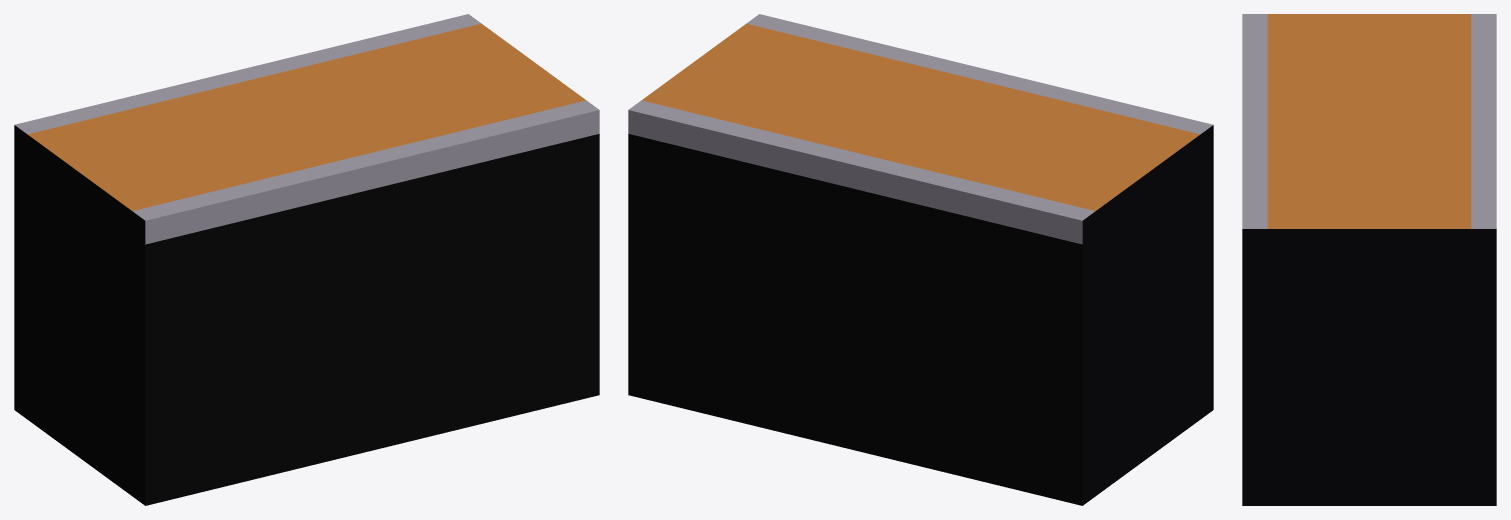
Rendered from ManPad_Half_6_TwoGrind.obj.
The picture shows the model from 3 angles, left to right: view 1: azimuth 30°, elevation 25°; view 2: azimuth 150°, elevation 25°; view 3: azimuth 270°, elevation 25°; orthographic projection. The views are drawn at different scales.
Visible parts, largest first — view 1: ManPad_Half_6_TwoGrind; view 2: ManPad_Half_6_TwoGrind; view 3: ManPad_Half_6_TwoGrind.
Boxes of the visible parts, x1=… form: ManPad_Half_6_TwoGrind: x1=14, y1=14, x2=599, y2=505; ManPad_Half_6_TwoGrind: x1=628, y1=14, x2=1213, y2=505; ManPad_Half_6_TwoGrind: x1=1242, y1=14, x2=1496, y2=505.
Bounding box in the file's own units: 10 × 6 × 5.
